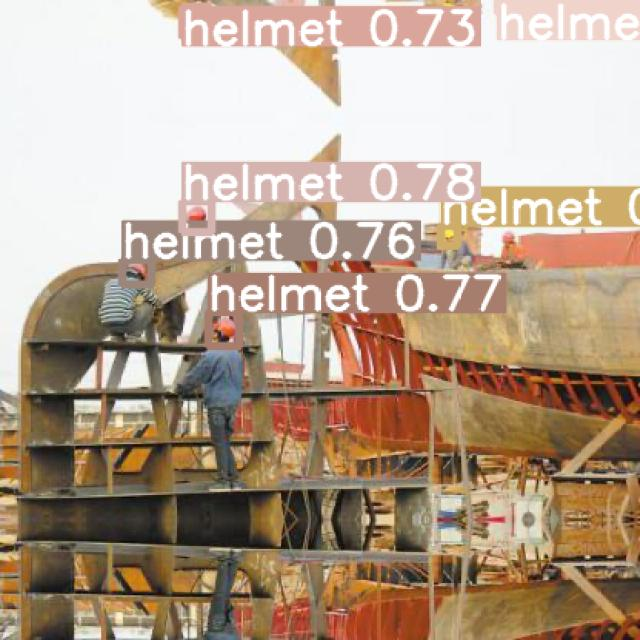helmet: (208, 312, 238, 346), (182, 200, 210, 232), (182, 6, 209, 37), (122, 259, 150, 284), (440, 225, 457, 245), (496, 0, 518, 12)
